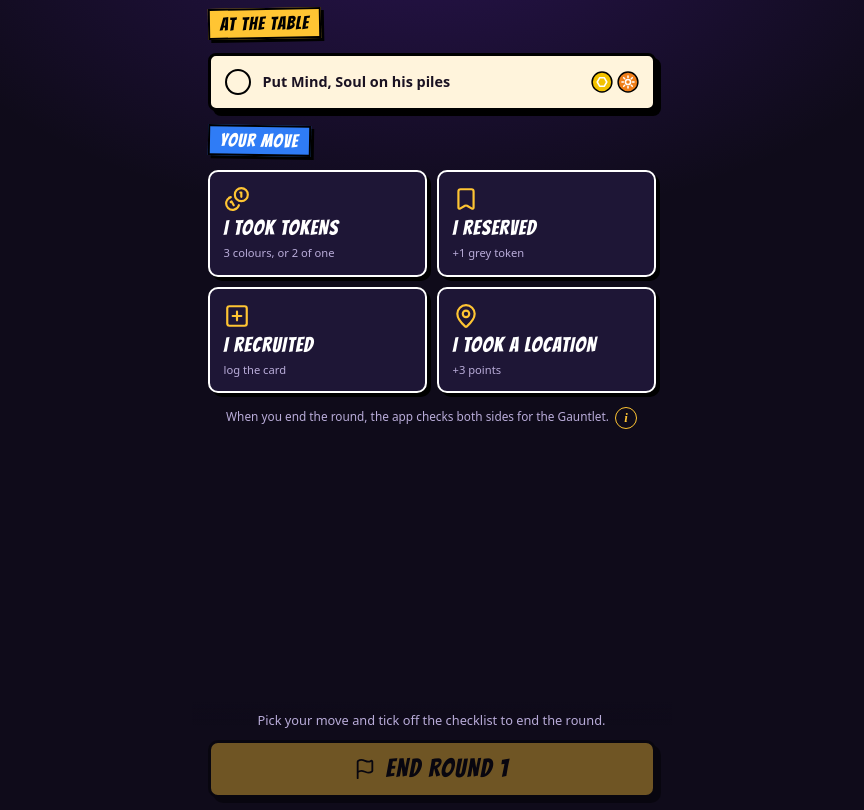
your move and the end of the round (#101) › picks one move at a time, and a second tap takes it back
Click the button "I TOOK TOKENS 3 colours, or 2 of one" at point(317, 224), box [208,170,426,277]
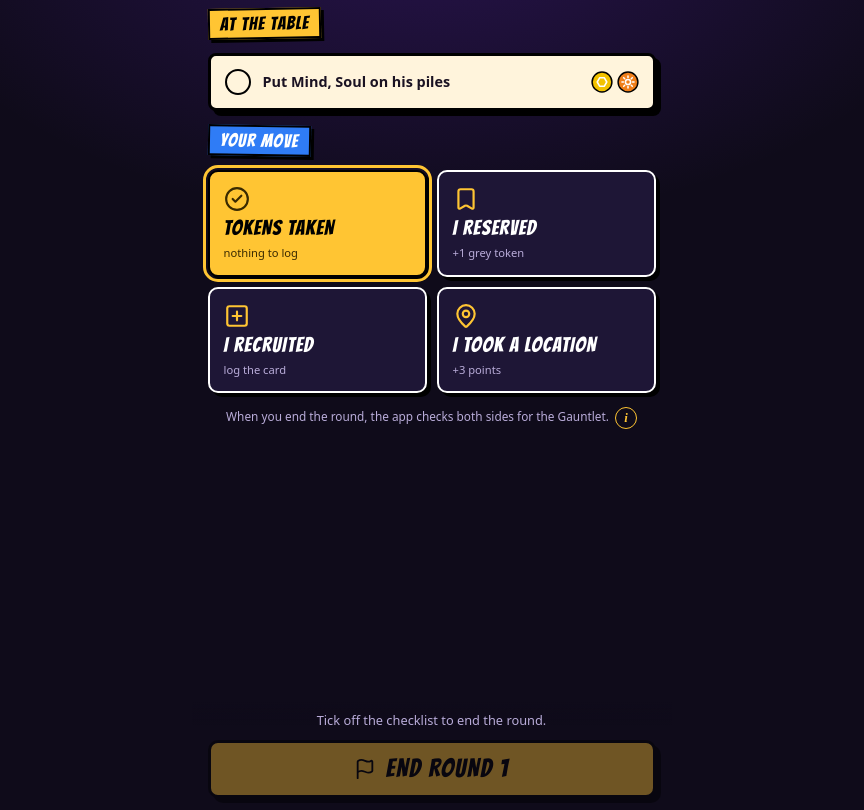
Expected: the button "TOKENS TAKEN nothing to log" is pressed, [208,170,426,277]
Click the button "I RESERVED +1 grey token" at point(546, 224), box [436,170,656,277]
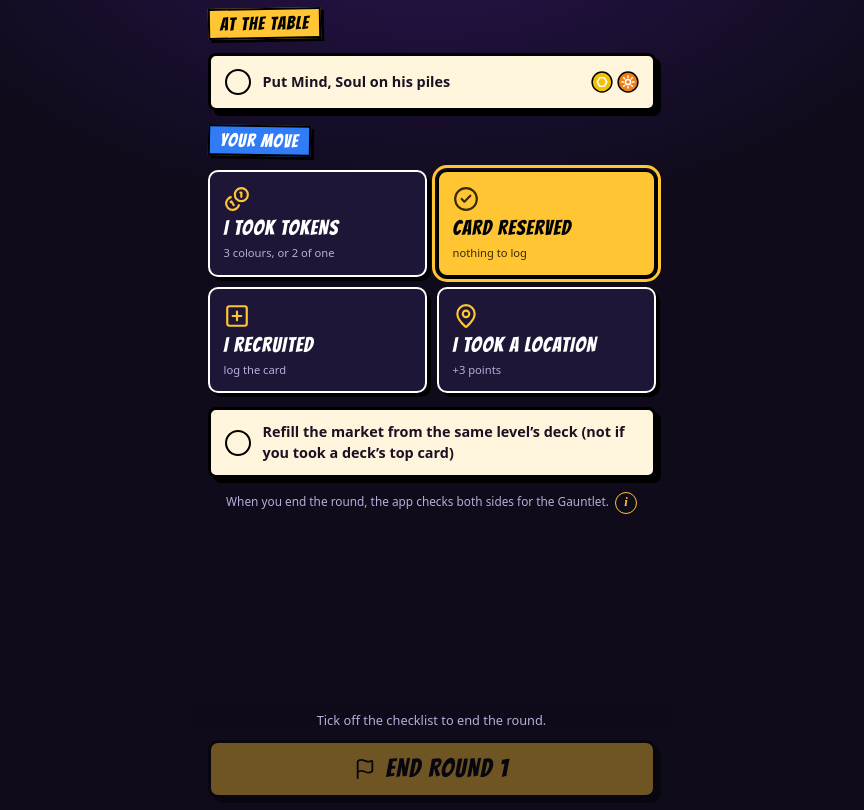
Expected: the button "CARD RESERVED nothing to log" is pressed
Expected: the button "I TOOK TOKENS 3 colours, or 2 of one" is not pressed, [208,170,426,277]
Click the button "CARD RESERVED nothing to log" at point(546, 224), box [436,170,656,277]
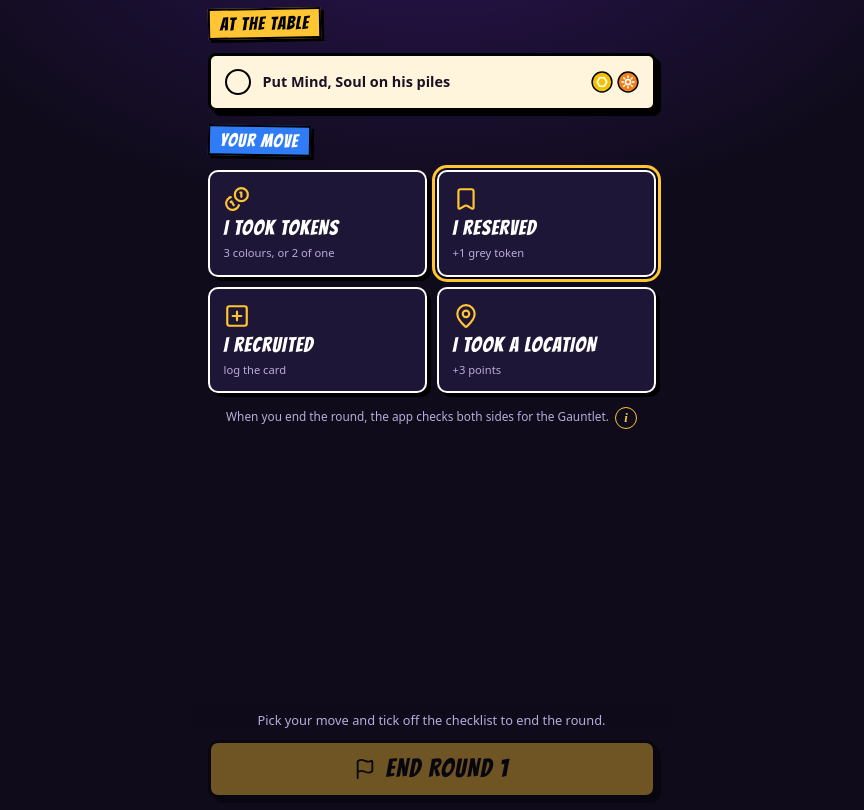
Expected: the text "Pick your move and tick off the checklist to end the round." is shown, [258,711,606,729]
